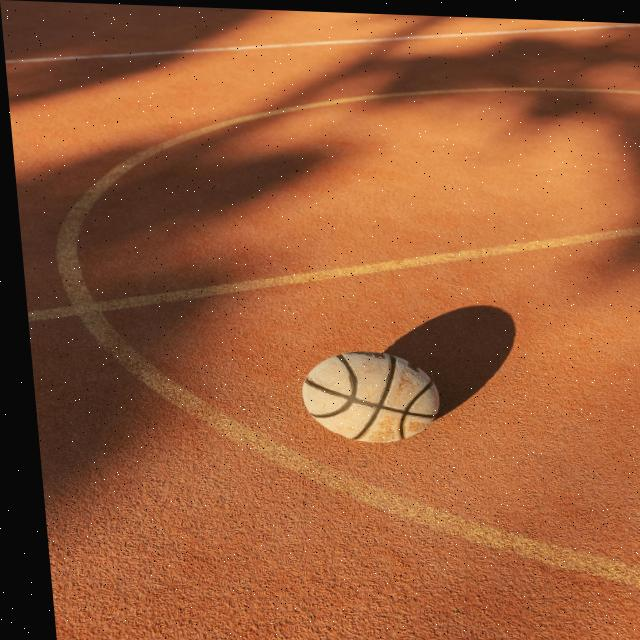Basketball: (300, 351, 443, 445)
